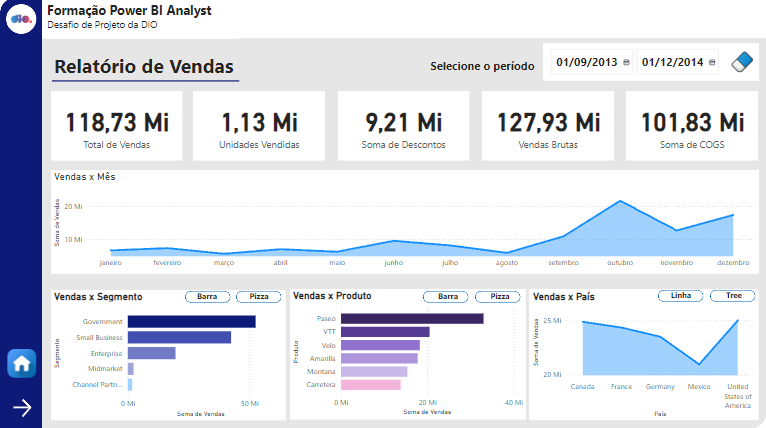

What the dashboard file says about the page in this screenshot:
{"tool":"powerbi","page":{"name":"Relatório de Vendas","canvas":[1280,720],"ordinal":1},"visuals":[{"type":"group","id":"g1","title":"Background","box":[0,0,1280,720],"z":0},{"type":"shape","title":"Background","box":[0,0,1280,720],"z":0,"group":"g1"},{"type":"shape","box":[70,0,1210,67.5],"z":0,"group":"g3"},{"type":"shape","box":[9.2,10,50.8,50],"z":0,"group":"g7"},{"type":"slicer","fields":{"Values":["financials.Date"]},"box":[904.3,75.7,360,62.9],"z":0,"group":"g15"},{"type":"shape","box":[86.4,125,312.1,26.4],"z":0,"group":"g16"},{"type":"card","title":"Cartão - Soma de COGS","fields":{"Values":["Sum(financials.COGS)"]},"box":[1042.9,154.3,220,115.7],"z":0,"group":"g8"},{"type":"pieChart","title":"Vendas x Segmento","fields":{"Category":["financials.Segment"],"Y":["Sum(financials. Sales)"]},"box":[84.3,485.7,391.4,217.1],"z":0,"group":"g14"},{"type":"shape","title":"Forma Tree","box":[1182.9,486.7,75.8,19.7],"z":0,"group":"g9"},{"type":"shape","title":"Forma Mapa","box":[1096.5,486.8,75.8,19.7],"z":0,"group":"g4"},{"type":"donutChart","title":"Vendas x Produto","fields":{"Category":["financials.Product"],"Y":["Sum(financials. Sales)"]},"box":[482.9,487.1,392.9,215.7],"z":0,"group":"g13"},{"type":"shape","title":"Forma Barra 01","box":[307.1,487.9,75.8,19.7],"z":0,"group":"g5"},{"type":"shape","title":"Forma Pizza 01","box":[393.4,487.9,75.8,19.7],"z":0,"group":"g10"},{"type":"shape","title":"Forma Barra 02","box":[704.9,488.2,75.8,19.7],"z":0,"group":"g11"},{"type":"shape","title":"Forma Pizza 02","box":[791.2,488.2,75.8,19.7],"z":0,"group":"g6"},{"type":"image","box":[3.3,580,66.7,58.3],"z":0,"group":"g2"},{"type":"shape","box":[0,0,70,720],"z":1000,"group":"g1"},{"type":"textbox","title":"Titulo - Desafio DIO","box":[73.8,0,325,67.5],"z":1000,"group":"g3"},{"type":"image","title":"logo-dio","box":[12.2,16.2,45.4,36.2],"z":1000,"group":"g7"},{"type":"image","title":"borracha","box":[1210,84.3,54.3,45.7],"z":1000,"group":"g15"},{"type":"textbox","title":"Titulo - Relatorio","box":[84.3,85.7,322.9,65.7],"z":1000,"group":"g16"},{"type":"card","title":"Cartão - Vendas Brutas","fields":{"Values":["Sum(financials.Gross Sales)"]},"box":[802.9,154.3,220,115.7],"z":1000,"group":"g8"},{"type":"textbox","title":"Caixa Mapa","box":[1102.3,481.8,66.7,30],"z":1000,"group":"g4"},{"type":"textbox","title":"Caixa Tree","box":[1189,481.8,66.7,30],"z":1000,"group":"g9"},{"type":"textbox","title":"Caixa Barra 01","box":[311.7,482.5,66.7,30],"z":1000,"group":"g5"},{"type":"textbox","title":"Caixa Barra 02","box":[713.1,483.2,66.7,30],"z":1000,"group":"g11"},{"type":"textbox","title":"Caixa Pizza 02","box":[799.8,483.2,66.7,30],"z":1000,"group":"g6"},{"type":"clusteredBarChart","title":"Vendas x Segmento","fields":{"Y":["Sum(financials. Sales)"],"Category":["financials.Segment"]},"box":[84.3,485.7,391.4,217.1],"z":1000,"group":"g14"},{"type":"clusteredBarChart","title":"Vendas x Produto","fields":{"Y":["Sum(financials. Sales)"],"Category":["financials.Product"]},"box":[482.9,485.7,392.9,215.7],"z":1000,"group":"g13"},{"type":"group","id":"g2","title":"Botão Home","box":[0,580,75,58.3],"z":1000},{"type":"actionButton","box":[0,580,75,58.3],"z":1000,"group":"g2"},{"type":"textbox","title":"Caixa Pizza 01","box":[398.3,482.5,66.7,30],"z":1500,"group":"g10"},{"type":"treemap","title":"Vendas x Pais","fields":{"Group":["financials.Country"],"Values":["Sum(financials. Sales)"]},"box":[881.4,484.3,381.4,217.1],"z":1500,"group":"g12"},{"type":"areaChart","title":"Vendas x País","fields":{"Category":["financials.Country"],"Y":["Sum(financials. Sales)"]},"box":[882.8,485.7,381.4,217.1],"z":1750,"group":"g12"},{"type":"group","id":"g3","title":"Titulo","box":[70,0,1210,67.5],"z":2000,"group":"g1"},{"type":"actionButton","title":"Botão - Clean","box":[1213.8,87.5,50,40],"z":2000,"group":"g15"},{"type":"card","title":"Cartão - Descontos","fields":{"Values":["Sum(financials.Discounts)"]},"box":[562.9,154.3,218.6,115.7],"z":2000,"group":"g8"},{"type":"actionButton","title":"Botão - Tree","box":[1182.8,481.4,80,28.6],"z":2000,"group":"g9"},{"type":"group","id":"g4","title":"Map","box":[1093.5,481.8,79.9,30.5],"z":2000,"group":"g12"},{"type":"group","id":"g5","title":"Barra","box":[302.9,482.5,80,30.4],"z":2000,"group":"g14"},{"type":"group","id":"g6","title":"Pizza","box":[788.6,483.2,80,30],"z":2000,"group":"g13"},{"type":"actionButton","title":"Botão - Mapa","box":[1093.5,484.1,79.9,28.2],"z":2000,"group":"g4"},{"type":"actionButton","title":"Botão - Barra 01","box":[302.9,484.3,80,28.6],"z":2000,"group":"g5"},{"type":"actionButton","title":"Botão - Barra 02","box":[702.9,484.3,80,28.6],"z":2000,"group":"g11"},{"type":"actionButton","title":"Botão - Pizza 02","box":[788.6,484.3,80,28.6],"z":2000,"group":"g6"},{"type":"actionButton","title":"Botão - Pizza 01","box":[391.4,485.7,80,28.6],"z":2000,"group":"g10"},{"type":"actionButton","title":"Avançar","box":[17.1,662.9,50,40],"z":2000},{"type":"group","id":"g7","title":"Logo-DIO","box":[9.2,10,50.8,50],"z":3000,"group":"g1"},{"type":"textbox","box":[690,95.7,228.6,42.9],"z":3000,"group":"g15"},{"type":"group","id":"g8","title":"Cartões","box":[84.3,154.3,1178.6,115.7],"z":3000},{"type":"card","title":"Cartão - Unidades","fields":{"Values":["Sum(financials.Units Sold)"]},"box":[321.4,154.3,220,115.7],"z":3000,"group":"g8"},{"type":"group","id":"g9","title":"Tree","box":[1182.8,481.4,80,30.4],"z":3000,"group":"g12"},{"type":"group","id":"g10","title":"Pizza","box":[391.4,482.5,80,31.8],"z":3000,"group":"g14"},{"type":"group","id":"g11","title":"Barra","box":[702.9,483.2,80,30],"z":3000,"group":"g13"},{"type":"card","title":"Cartão - Total de Vendas","fields":{"Values":["Sum(financials. Sales)"]},"box":[84.3,154.3,218.6,115.7],"z":4000,"group":"g8"},{"type":"group","id":"g12","title":"Venda x País","box":[881.4,481.4,382.9,221.4],"z":4000},{"type":"group","id":"g13","title":"Vendas x Produtos","box":[482.9,483.2,392.9,219.6],"z":5000},{"type":"group","id":"g14","title":"Vendas x Segmento","box":[84.3,482.5,391.4,220.4],"z":6000},{"type":"areaChart","title":"Vendas x Mês","fields":{"Y":["Sum(financials. Sales)"],"Category":["financials.Date.Variation.Hierarquia de datas.Mês"]},"box":[84.3,287.1,1180,172.9],"z":7000},{"type":"group","id":"g15","title":"Periodo","box":[690,75.7,574.3,62.9],"z":8000},{"type":"group","id":"g16","title":"Subtitulo","box":[84.3,85.7,322.9,65.7],"z":9000}]}

Visuals, with their boxes in screenshot pixels (x1, y1, x2, y2), scaled from the page's 1280x720 canvas onto the 766x428 screenshot:
"Background" group: bbox(0, 0, 765, 427)
"Background" shape: bbox(0, 0, 765, 427)
shape: bbox(42, 0, 765, 40)
shape: bbox(6, 6, 36, 36)
slicer - financials.Date: bbox(541, 45, 757, 82)
shape: bbox(52, 74, 238, 90)
"Cartão - Soma de COGS" card: bbox(624, 92, 756, 160)
"Vendas x Segmento" pieChart: bbox(50, 289, 285, 418)
"Forma Tree" shape: bbox(708, 289, 753, 301)
"Forma Mapa" shape: bbox(656, 289, 702, 301)
"Vendas x Produto" donutChart: bbox(289, 290, 524, 418)
"Forma Barra 01" shape: bbox(184, 290, 229, 302)
"Forma Pizza 01" shape: bbox(235, 290, 281, 302)
"Forma Barra 02" shape: bbox(422, 290, 467, 302)
"Forma Pizza 02" shape: bbox(473, 290, 519, 302)
image: bbox(2, 345, 42, 379)
shape: bbox(0, 0, 42, 427)
"Titulo - Desafio DIO" textbox: bbox(44, 0, 239, 40)
"logo-dio" image: bbox(7, 10, 34, 31)
"borracha" image: bbox(724, 50, 757, 77)
"Titulo - Relatorio" textbox: bbox(50, 51, 244, 90)
"Cartão - Vendas Brutas" card: bbox(480, 92, 612, 160)
"Caixa Mapa" textbox: bbox(660, 286, 700, 304)
"Caixa Tree" textbox: bbox(712, 286, 751, 304)
"Caixa Barra 01" textbox: bbox(187, 287, 226, 305)
"Caixa Barra 02" textbox: bbox(427, 287, 467, 305)
"Caixa Pizza 02" textbox: bbox(479, 287, 519, 305)
"Vendas x Segmento" clusteredBarChart: bbox(50, 289, 285, 418)
"Vendas x Produto" clusteredBarChart: bbox(289, 289, 524, 417)
"Botão Home" group: bbox(0, 345, 45, 379)
actionButton: bbox(0, 345, 45, 379)
"Caixa Pizza 01" textbox: bbox(238, 287, 278, 305)
"Vendas x Pais" treemap: bbox(527, 288, 756, 417)
"Vendas x País" areaChart: bbox(528, 289, 757, 418)
"Titulo" group: bbox(42, 0, 765, 40)
"Botão - Clean" actionButton: bbox(726, 52, 756, 76)
"Cartão - Descontos" card: bbox(337, 92, 468, 160)
"Botão - Tree" actionButton: bbox(708, 286, 756, 303)
"Map" group: bbox(654, 286, 702, 305)
"Barra" group: bbox(181, 287, 229, 305)
"Pizza" group: bbox(472, 287, 520, 305)
"Botão - Mapa" actionButton: bbox(654, 288, 702, 305)
"Botão - Barra 01" actionButton: bbox(181, 288, 229, 305)
"Botão - Barra 02" actionButton: bbox(421, 288, 469, 305)
"Botão - Pizza 02" actionButton: bbox(472, 288, 520, 305)
"Botão - Pizza 01" actionButton: bbox(234, 289, 282, 306)
"Avançar" actionButton: bbox(10, 394, 40, 418)
"Logo-DIO" group: bbox(6, 6, 36, 36)
textbox: bbox(413, 57, 550, 82)
"Cartões" group: bbox(50, 92, 756, 160)
"Cartão - Unidades" card: bbox(192, 92, 324, 160)
"Tree" group: bbox(708, 286, 756, 304)
"Pizza" group: bbox(234, 287, 282, 306)
"Barra" group: bbox(421, 287, 469, 305)
"Cartão - Total de Vendas" card: bbox(50, 92, 181, 160)
"Venda x País" group: bbox(527, 286, 757, 418)
"Vendas x Produtos" group: bbox(289, 287, 524, 418)
"Vendas x Segmento" group: bbox(50, 287, 285, 418)
"Vendas x Mês" areaChart: bbox(50, 171, 757, 273)
"Periodo" group: bbox(413, 45, 757, 82)
"Subtitulo" group: bbox(50, 51, 244, 90)
